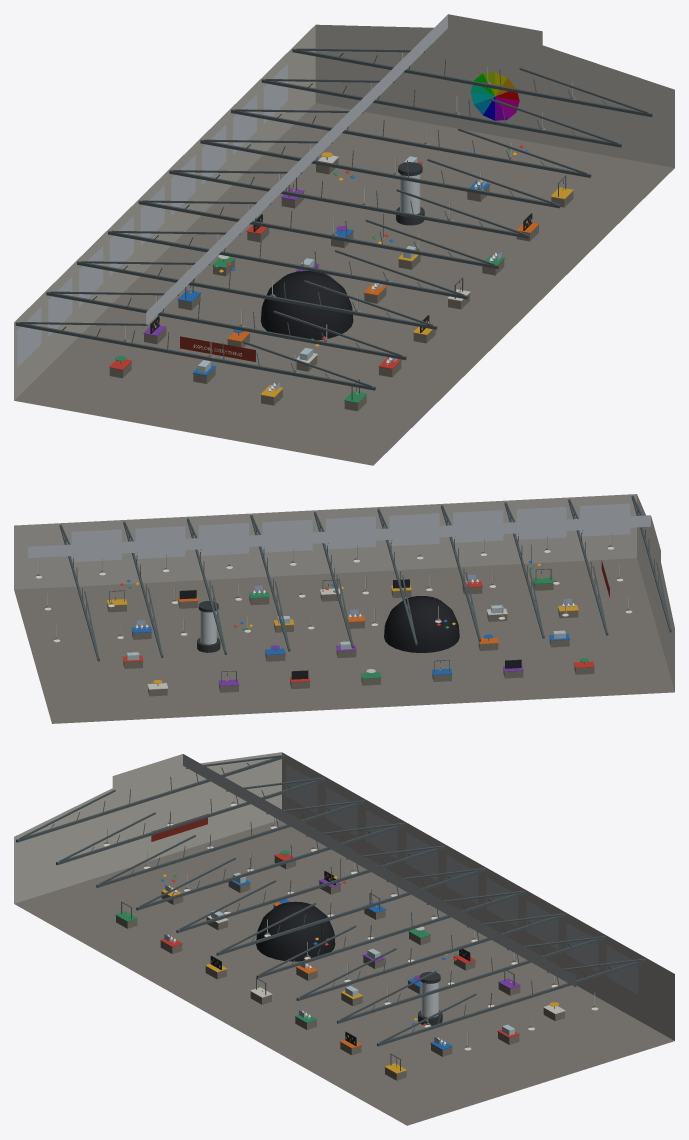
The model's file is exploratorium_int.glb.
3 renders of one model, top to bottom at view 1: azimuth 30°, elevation 25°; view 2: azimuth 150°, elevation 25°; view 3: azimuth 270°, elevation 25°, orthographic. The views are drawn at different scales.
Parts seen in each view (by area): view 1: I_concrete, I_x_plaster, I_metal, I_sky, I_paint, I_x_veneer, I_glassI, I_x_velvet; view 2: I_concrete, I_x_plaster, I_sky, I_metal, I_paint, I_x_veneer, I_glassI, I_lampI; view 3: I_concrete, I_x_plaster, I_metal, I_sky, I_paint, I_x_veneer, I_glassI.
Part boxes in pixels (box(x1,y1,x2,y2)): I_concrete: box(14, 103, 674, 465); I_x_plaster: box(14, 14, 674, 400); I_metal: box(15, 48, 652, 400); I_sky: box(17, 14, 447, 367); I_paint: box(109, 72, 573, 403); I_x_veneer: box(109, 158, 573, 411); I_glassI: box(197, 156, 497, 393); I_x_velvet: box(180, 336, 255, 361); I_concrete: box(14, 558, 674, 723); I_x_plaster: box(14, 494, 674, 691); I_sky: box(28, 503, 650, 562); I_metal: box(36, 495, 671, 685); I_paint: box(106, 560, 594, 689); I_x_veneer: box(107, 581, 594, 696); I_glassI: box(127, 579, 574, 660); I_lampI: box(36, 547, 631, 642); I_concrete: box(14, 820, 674, 1125); I_x_plaster: box(14, 752, 674, 1040); I_metal: box(16, 755, 645, 1070); I_sky: box(183, 754, 638, 994); I_paint: box(115, 850, 565, 1073); I_x_veneer: box(116, 856, 564, 1080); I_glassI: box(167, 872, 514, 1045).
Bounding box in the file's own units: 82.41 × 12.1 × 75.07.
